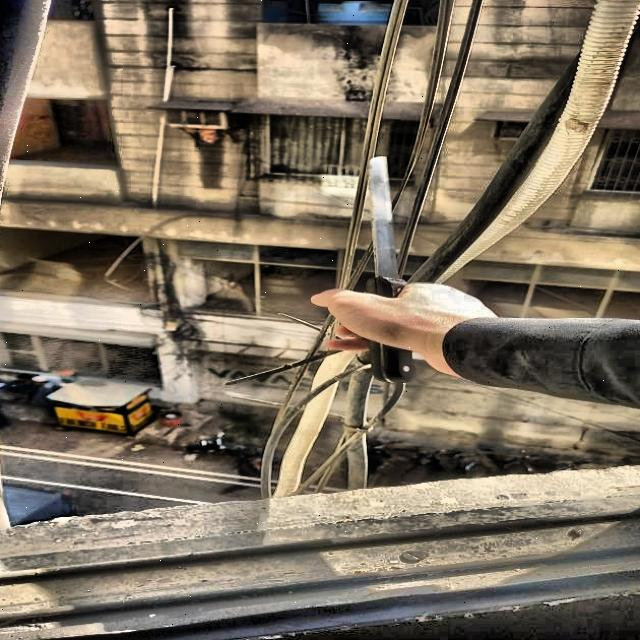knife: (369, 154, 414, 386)
